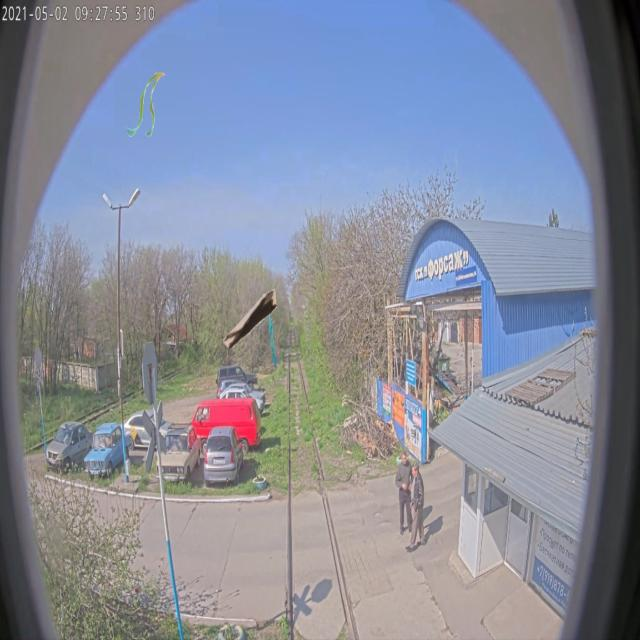floating object: (223, 286, 280, 350), (125, 73, 166, 137), (268, 302, 277, 366)
